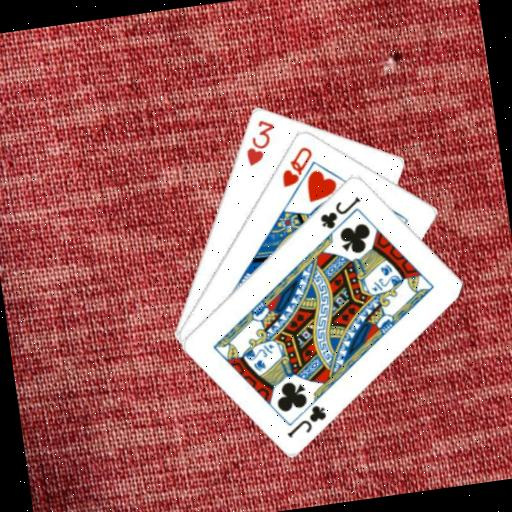3H: (238, 115, 281, 168)
JC: (314, 193, 366, 233), (281, 400, 332, 440)
QH: (275, 142, 318, 189)
